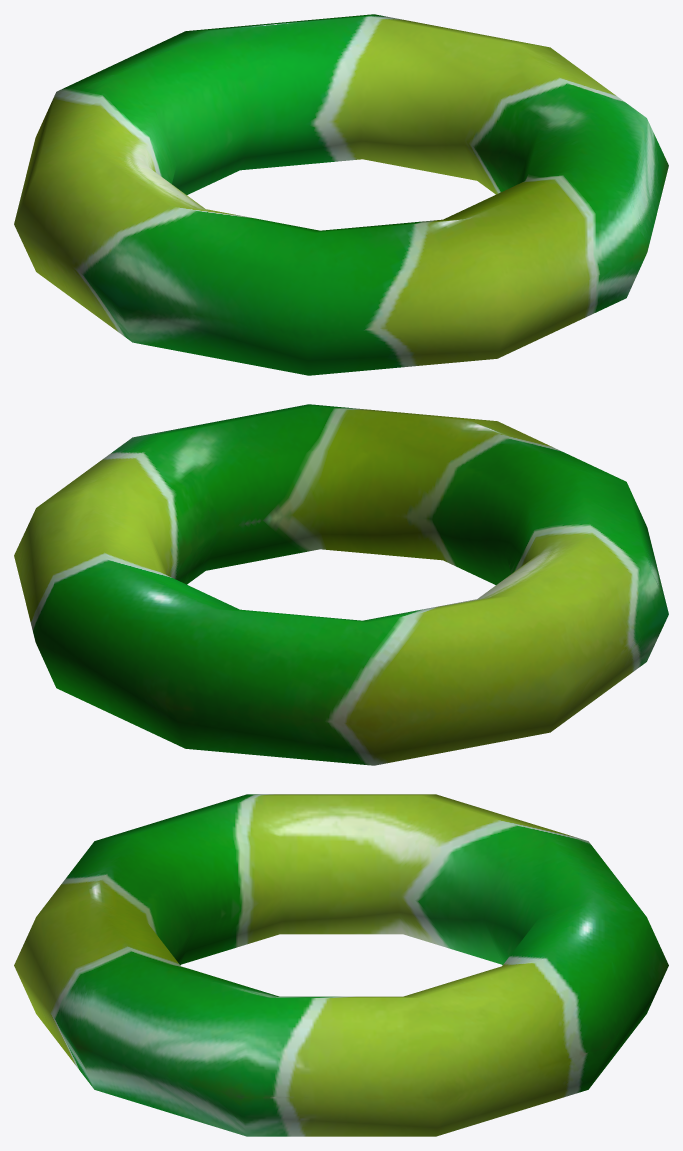
File: furni_0201009.FBX
3 renders of one model, top to bottom at view 1: azimuth 30°, elevation 25°; view 2: azimuth 150°, elevation 25°; view 3: azimuth 270°, elevation 25°, orthographic. The views are drawn at different scales.
Visible parts, largest first — view 1: furni_0201009; view 2: furni_0201009; view 3: furni_0201009.
Part boxes in pixels (bbox=[...]): furni_0201009: bbox=[14, 14, 668, 375]; furni_0201009: bbox=[14, 404, 668, 765]; furni_0201009: bbox=[14, 794, 668, 1136].
Bounding box in the file's own units: 103 × 24.94 × 108.
1 material, 1 textured.
